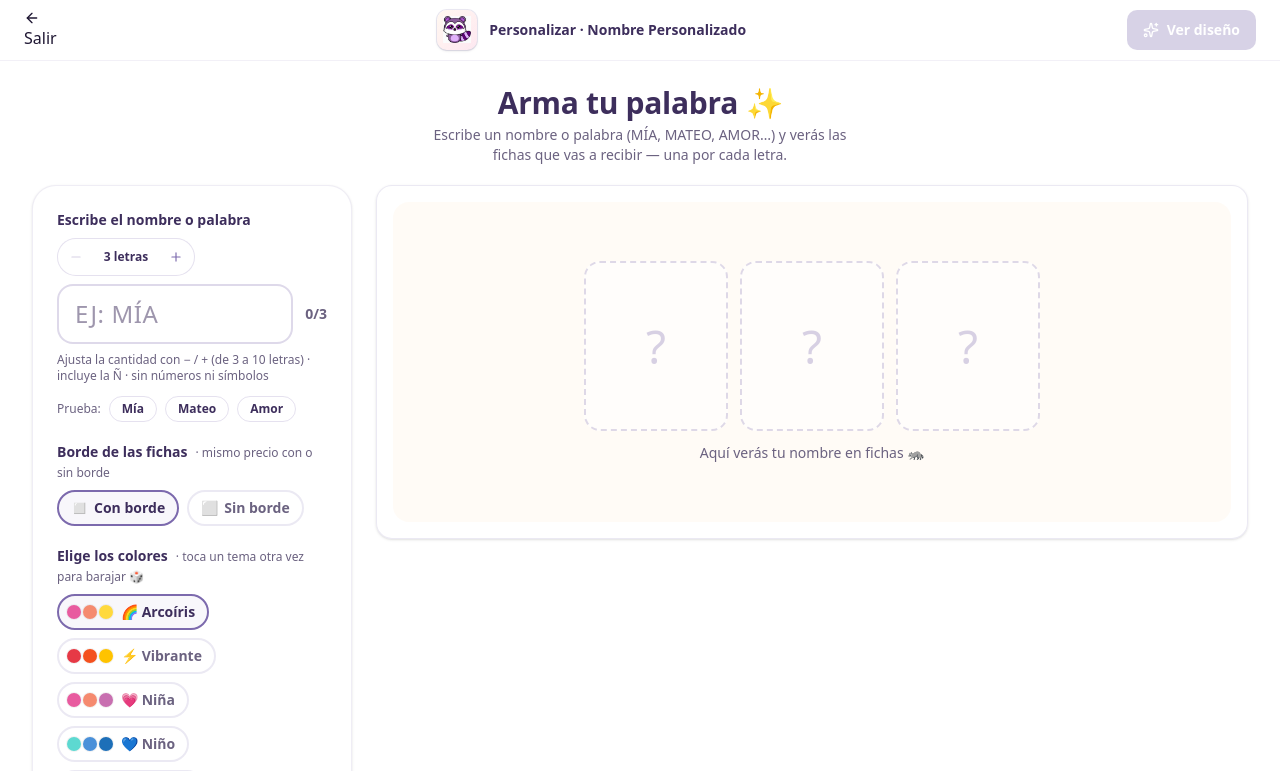
Test: NameEditor — vista previa antes del carrito › "Ver diseño" abre la previa SIN crear nada en el servidor
Type "LUCIA" into the field at (175, 314), box [57,284,293,344]
(page scrolled)
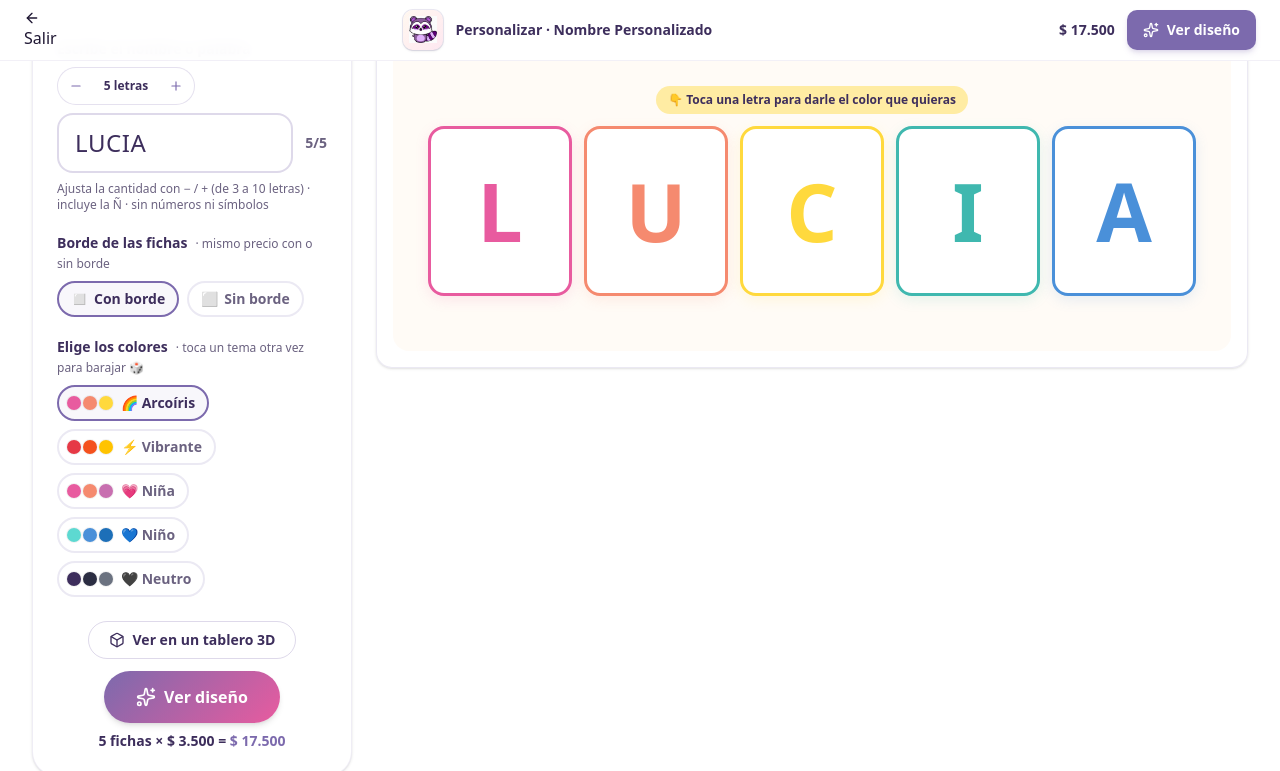
Click the button "Ver diseño" below "Elige los colores" at (192, 697), box [104,671,280,723]
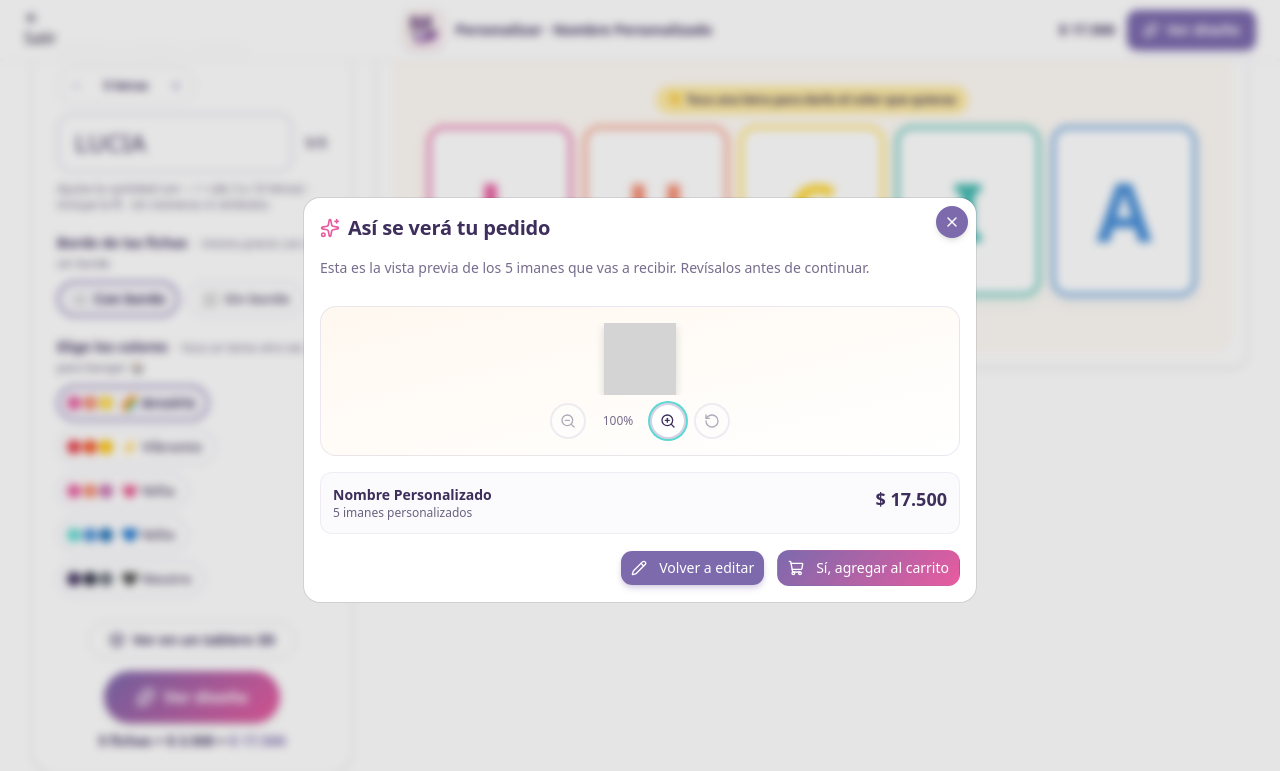
Expected: the heading "Así se verá tu pedido" is shown, [320,214,550,241]
